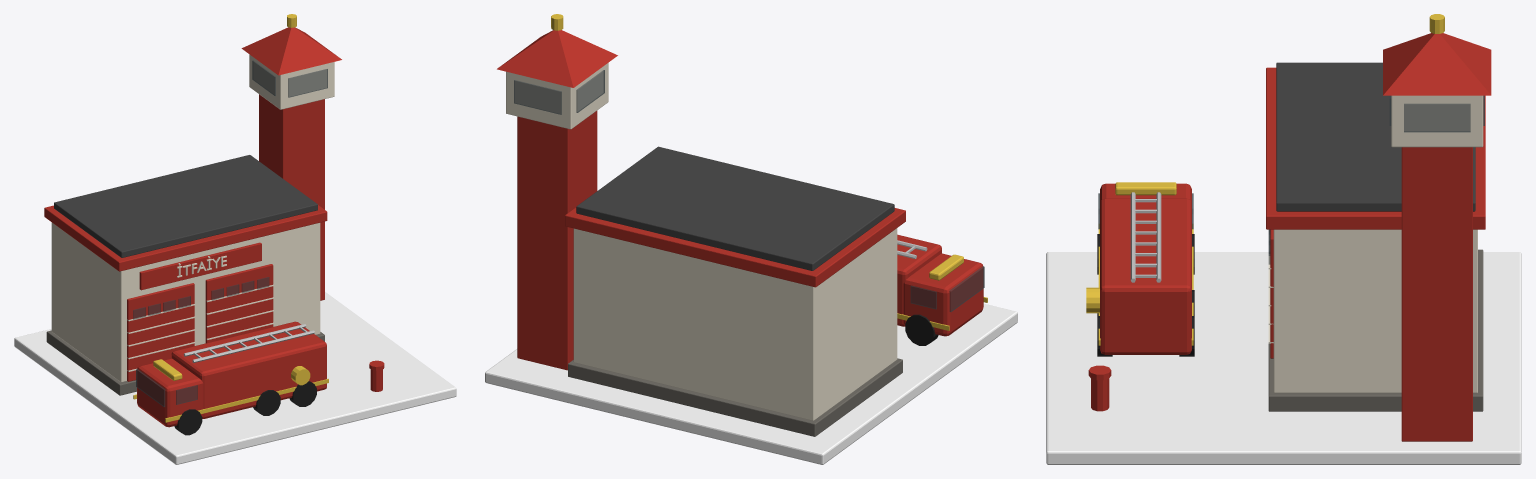
Rendered from itfaiye.glb.
3 views of the same model, side by side, from view 1: azimuth 30°, elevation 25°; view 2: azimuth 150°, elevation 25°; view 3: azimuth 270°, elevation 25° (orthographic). The views are drawn at different scales.
Visible parts, largest first — view 1: ACam; view 2: ACam; view 3: ACam.
Part boxes in pixels (bbox=[...]): ACam: bbox=[14, 14, 456, 464]; ACam: bbox=[485, 14, 1017, 464]; ACam: bbox=[1046, 14, 1521, 464].
Bounding box in the file's own units: 1 × 0.9881 × 0.9989.
